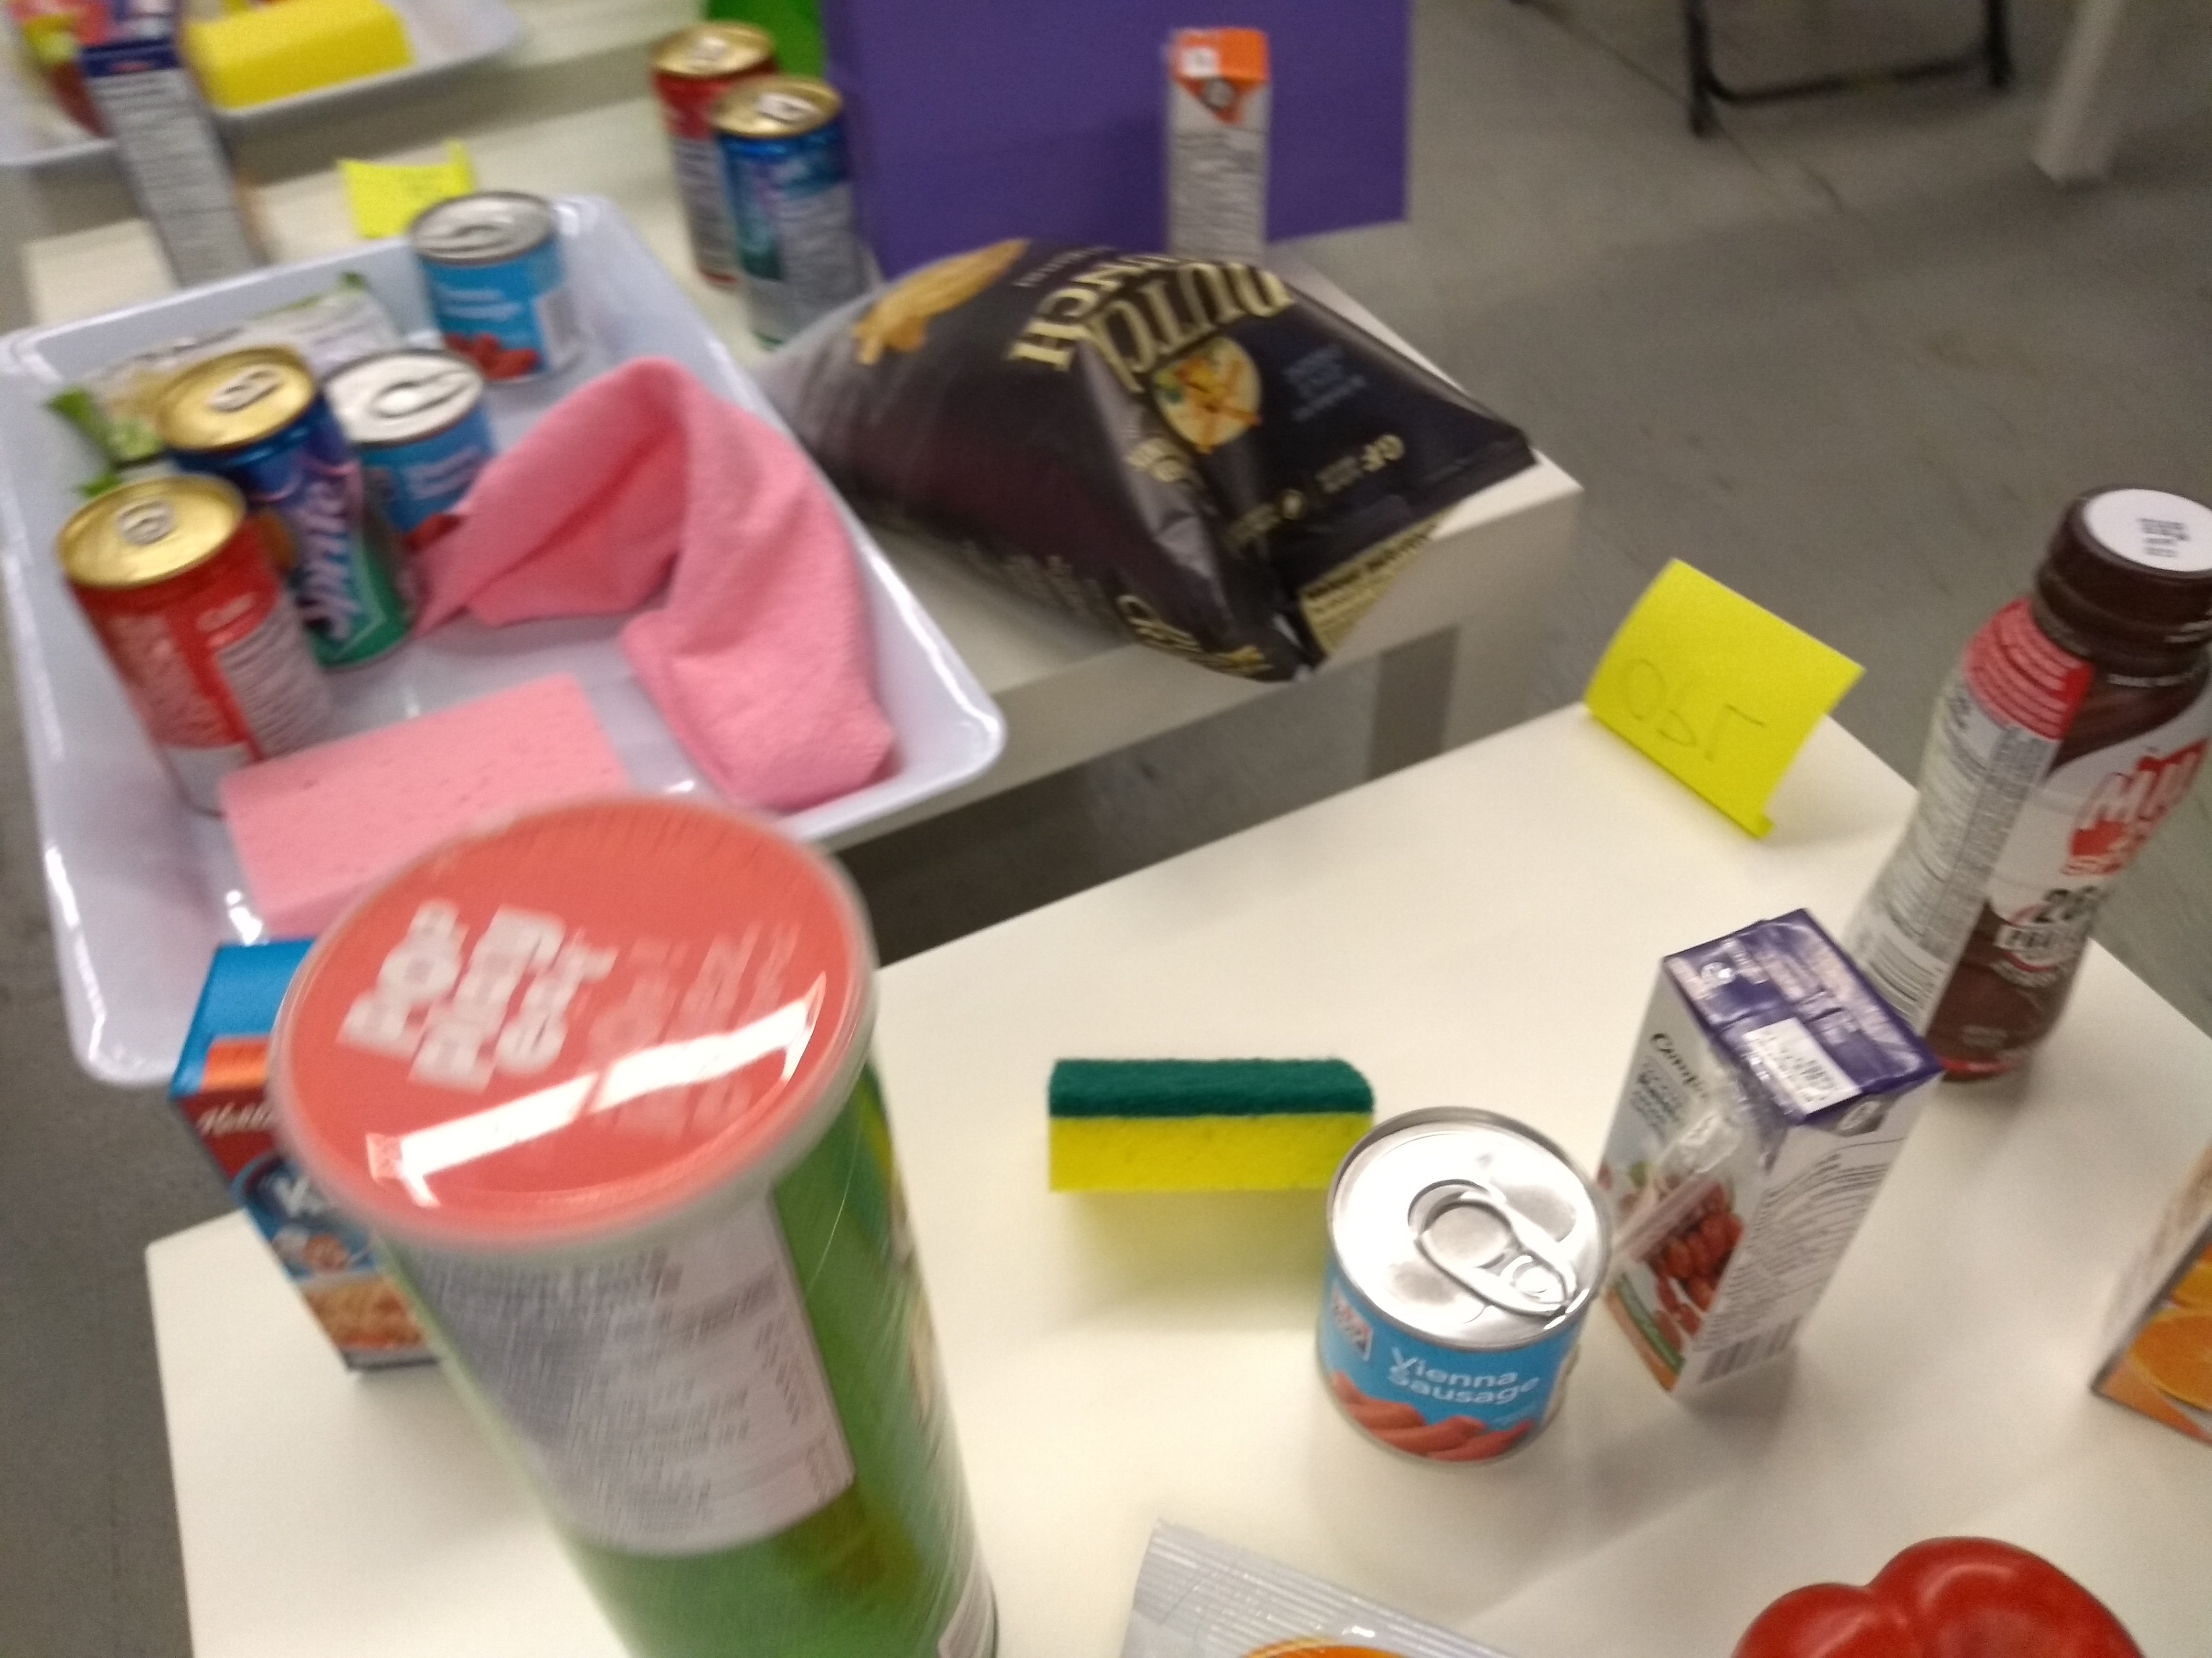chocolate_drink: (1838, 456, 2212, 1092)
coke: (59, 475, 333, 803), (651, 16, 765, 294)
grape_juice: (1588, 897, 1952, 1416)
orange_juice: (1150, 23, 1296, 279)
potato_chips: (733, 246, 1545, 688)
pringles: (272, 784, 995, 1658)
sausages: (1308, 1101, 1616, 1475), (399, 179, 597, 383), (340, 348, 509, 547)
scrubby: (1040, 1045, 1386, 1198)
sprite: (169, 364, 427, 665), (709, 71, 883, 341)
